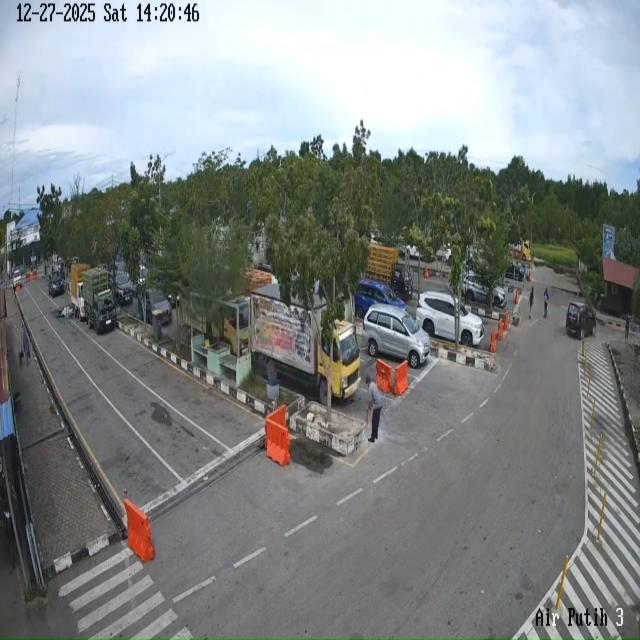Golongan IVA: (363, 304, 430, 369), (416, 291, 484, 347), (354, 279, 406, 319), (462, 272, 507, 308), (566, 302, 596, 340), (145, 290, 172, 324), (112, 272, 133, 307), (48, 272, 64, 298)
Golongan IVB: (83, 267, 117, 334), (70, 263, 90, 321)
Golongan VB: (250, 283, 360, 404)
